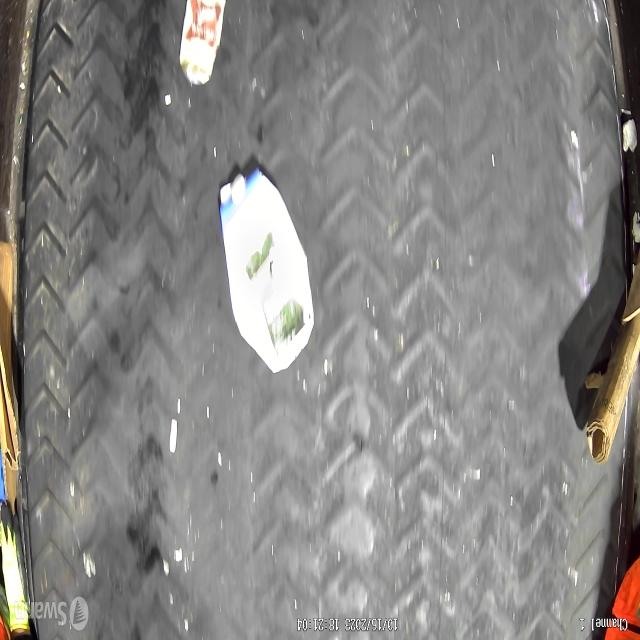can: (180, 0, 226, 86)
milk_jug: (219, 167, 315, 375)
